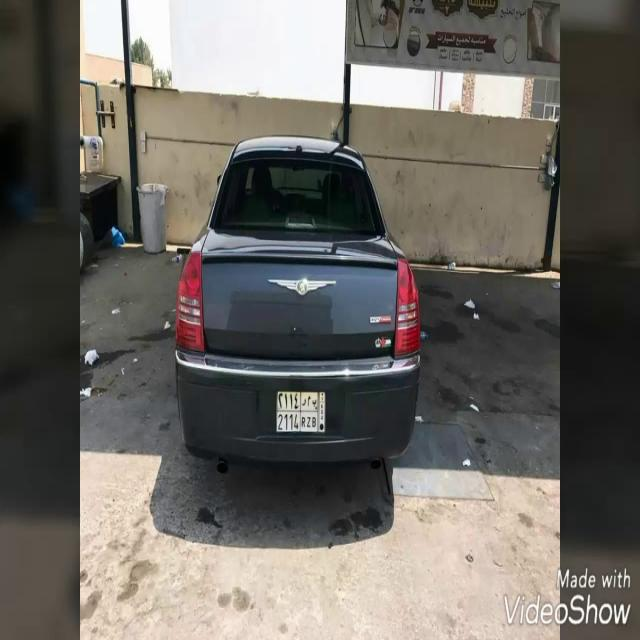license_plate: (276, 389, 326, 436)
